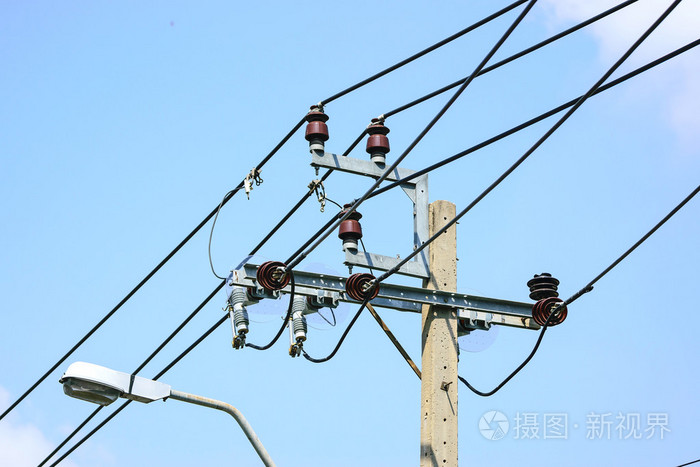insulator: (529, 296, 567, 327), (342, 274, 379, 303), (254, 260, 287, 291)
